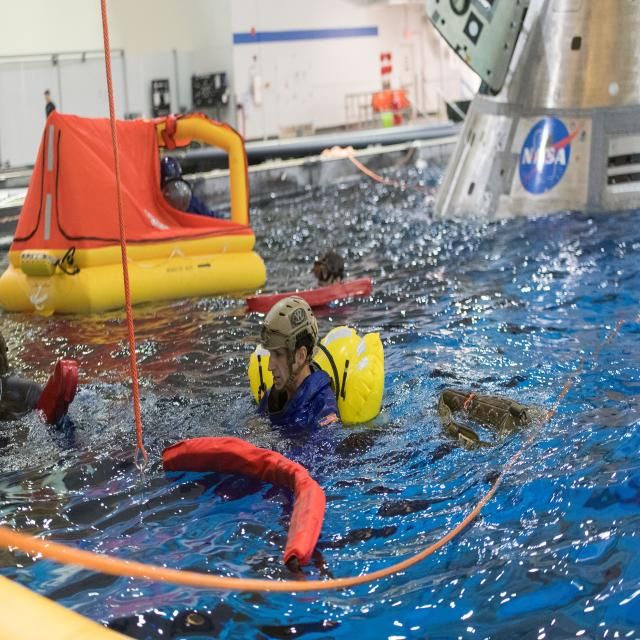Mannequin_wearing_orange-colored_life_preserver_unit_ LPU: (247, 332, 385, 427)
Multi-person_life_raft: (0, 107, 267, 317)
Orion_capsule_mockup_ WEST _located_on_far_end_of_pool: (424, 0, 640, 224), (425, 7, 640, 224)
